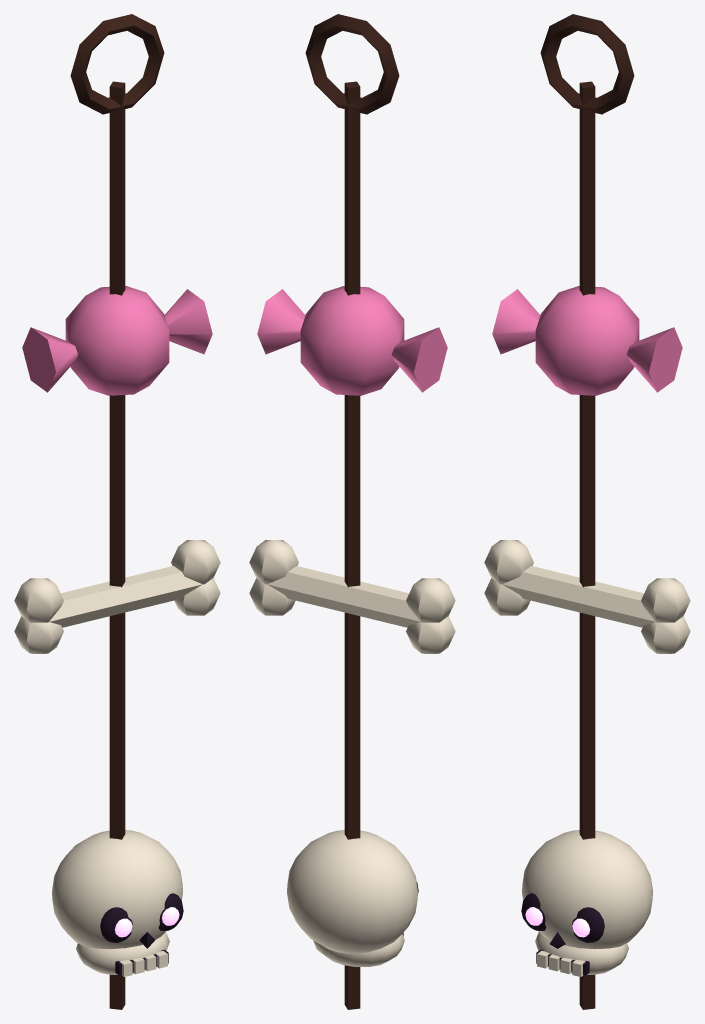
Rendered from Tree_Branch_Decoration.fbx.
3 renders of one model, left to right at view 1: azimuth 30°, elevation 25°; view 2: azimuth 150°, elevation 25°; view 3: azimuth 330°, elevation 25°, orthographic.
Visible parts, largest first — view 1: Tree_Branch_Decoration_Mesh; view 2: Tree_Branch_Decoration_Mesh; view 3: Tree_Branch_Decoration_Mesh.
Part boxes in pixels (left/top/right/bottom): Tree_Branch_Decoration_Mesh: left=14, top=14, right=220, bottom=1009; Tree_Branch_Decoration_Mesh: left=249, top=14, right=455, bottom=1009; Tree_Branch_Decoration_Mesh: left=484, top=14, right=690, bottom=1009.
Bounding box in the file's own units: 0.1981 × 0.9657 × 0.1141.
